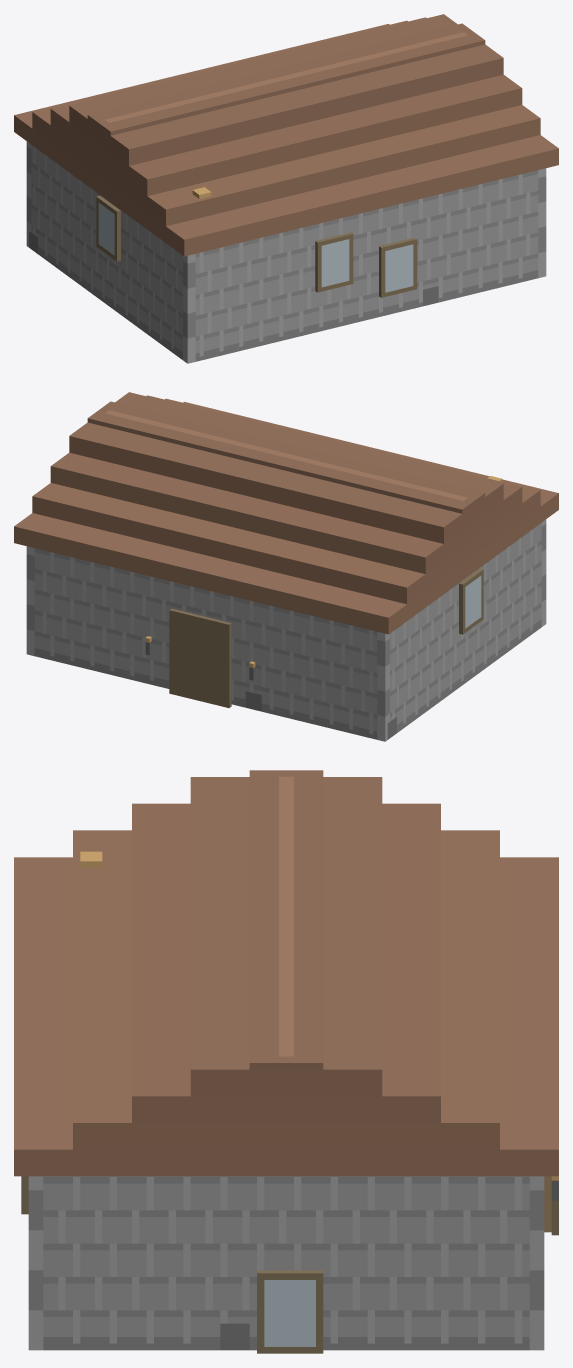
Rendered from alfareria_01.glb.
3 renders of one model, top to bottom at view 1: azimuth 30°, elevation 25°; view 2: azimuth 150°, elevation 25°; view 3: azimuth 270°, elevation 25°, orthographic. The views are drawn at different scales.
Visible parts, largest first — view 1: alfareria_01; view 2: alfareria_01; view 3: alfareria_01.
Boxes of the visible parts, x1,y1,x2,y2 form: alfareria_01: (14, 14, 558, 363); alfareria_01: (14, 392, 558, 741); alfareria_01: (14, 770, 558, 1353).
Bounding box in the file's own units: 9.4 × 4.4 × 7.4.
